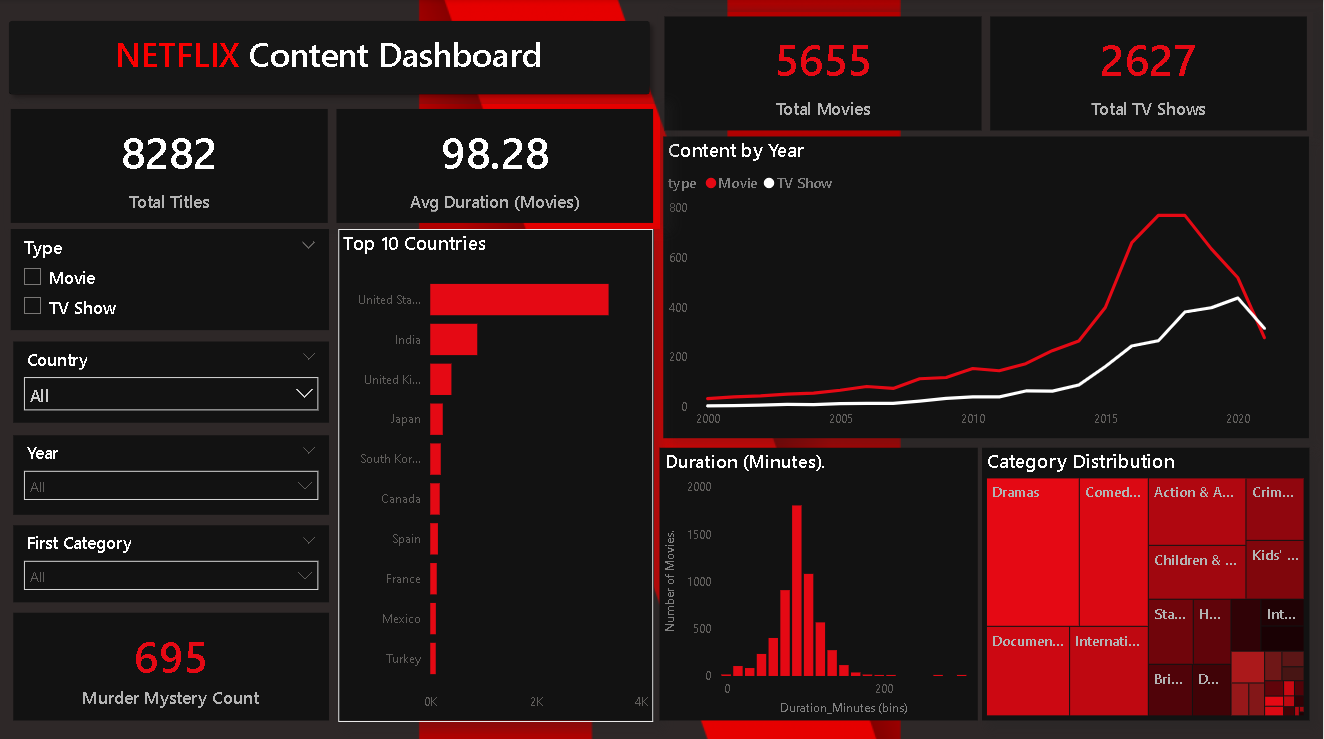

This screenshot's page, from the dashboard's own definition file:
{"tool":"powerbi","page":{"name":"Page 1","canvas":[1280,720],"ordinal":0},"visuals":[{"type":"shape","box":[2.7,12.3,636.7,89.2],"z":0},{"type":"textbox","box":[100.1,26.5,441.6,60.3],"z":1000},{"type":"cardVisual","fields":{"Data":["netflix_titles.Total Movies","netflix_titles.Total TV Shows"]},"box":[639.4,12.1,631,120.6],"z":2000},{"type":"lineChart","title":"Content by Year","fields":{"Category":["netflix_titles.release_year"],"Y":["CountNonNull(netflix_titles.show_id)"],"Series":["netflix_titles.type"]},"box":[643.6,133.1,623,290.9],"z":3000},{"type":"cardVisual","fields":{"Data":["netflix_titles.Total Titles","netflix_titles.Avg Duration (Movies)"]},"box":[8.4,101.3,631,120.6],"z":4000},{"type":"clusteredBarChart","title":"Top 10 Countries","fields":{"Category":["netflix_titles.country"],"Y":["netflix_titles.Total Titles"]},"box":[329.3,222.3,304.6,474.8],"z":5000},{"type":"card","fields":{"Values":["netflix_titles.Murder Mystery Count"]},"box":[15.1,592.8,304.6,104.3],"z":6000},{"type":"treemap","title":"Category Distribution","fields":{"Group":["netflix_titles.First Category"],"Values":["CountNonNull(netflix_titles.show_id)"]},"box":[950.9,433.6,315.6,263.5],"z":7000},{"type":"columnChart","title":"Duration (Minutes).","fields":{"Y":["netflix_titles.Total Movies"],"Category":["netflix_titles.Duration_Minutes (bins)"]},"box":[639.5,433.6,307.4,263.5],"z":8000},{"type":"slicer","fields":{"Values":["netflix_titles.type"]},"box":[13.7,222.3,307.4,97.4],"z":9000},{"type":"slicer","fields":{"Values":["netflix_titles.country"]},"box":[15.1,330.7,304.6,78.2],"z":10000},{"type":"slicer","fields":{"Values":["netflix_titles.release_year"]},"box":[15.1,421.3,304.6,76.8],"z":11000},{"type":"slicer","fields":{"Values":["netflix_titles.First Category"]},"box":[15.1,507.7,304.6,74.1],"z":12000}]}

Visuals, with their boxes in screenshot pixels (x1, y1, x2, y2), scaled from the page's 1280x720 canvas onto the 1324x739 screenshot:
shape: region(3, 13, 661, 104)
textbox: region(104, 27, 560, 89)
cardVisual - netflix_titles.Total Movies x netflix_titles.Total TV Shows: region(661, 12, 1314, 136)
"Content by Year" lineChart: region(666, 137, 1310, 435)
cardVisual - netflix_titles.Total Titles x netflix_titles.Avg Duration (Movies): region(9, 104, 661, 228)
"Top 10 Countries" clusteredBarChart: region(341, 228, 656, 715)
card - netflix_titles.Murder Mystery Count: region(16, 608, 331, 715)
"Category Distribution" treemap: region(984, 445, 1310, 715)
"Duration (Minutes)." columnChart: region(661, 445, 979, 715)
slicer - netflix_titles.type: region(14, 228, 332, 328)
slicer - netflix_titles.country: region(16, 339, 331, 420)
slicer - netflix_titles.release_year: region(16, 432, 331, 511)
slicer - netflix_titles.First Category: region(16, 521, 331, 597)
